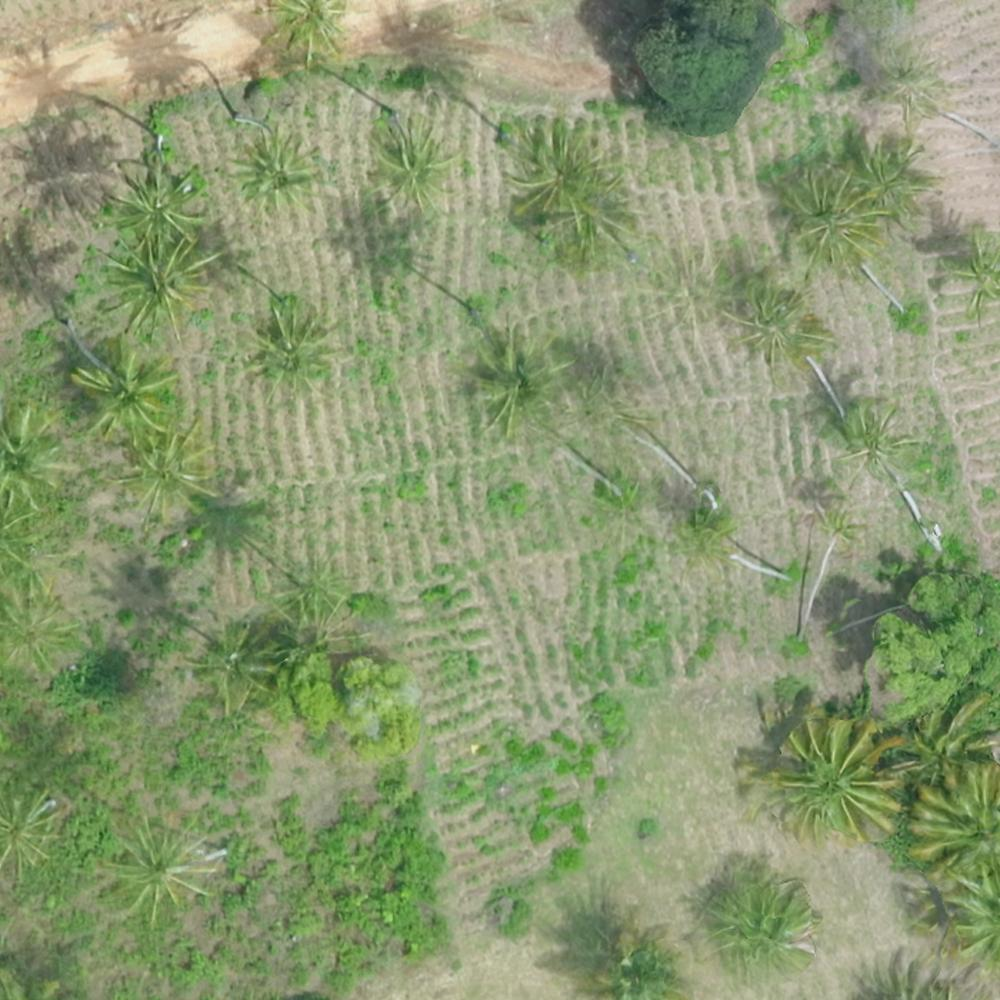Palm: (777, 718, 897, 829), (707, 868, 812, 974), (784, 168, 883, 266), (915, 768, 1000, 876), (108, 819, 203, 915), (119, 422, 211, 517), (74, 349, 168, 439), (109, 238, 205, 326), (1, 413, 78, 513), (242, 304, 330, 390), (364, 121, 449, 204), (111, 168, 197, 248), (234, 131, 315, 209), (1, 786, 64, 876), (270, 1, 349, 62)
